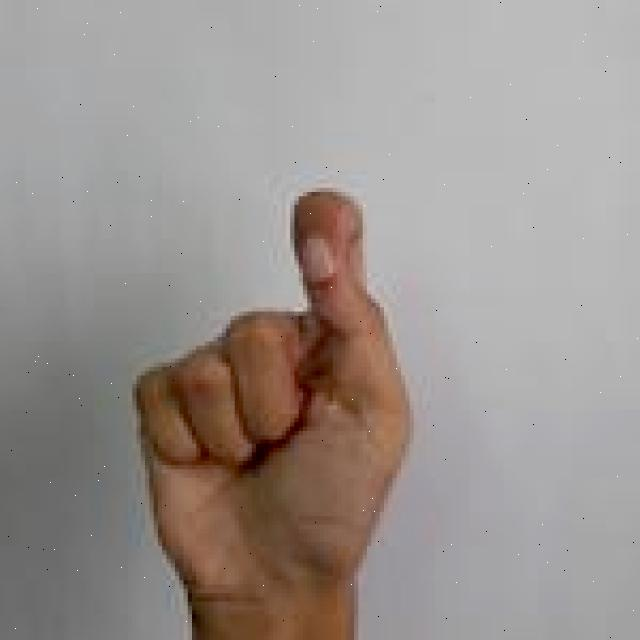T: (128, 182, 418, 640)
